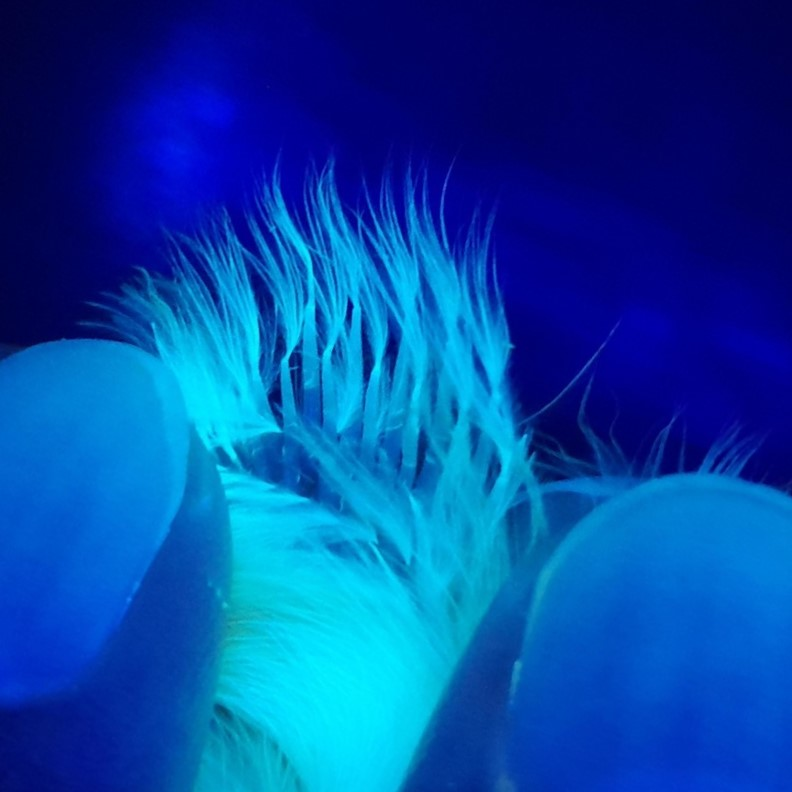female: (257, 271, 506, 617)
